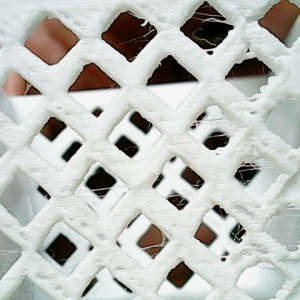3dpstringing: (194, 12, 233, 52), (230, 151, 274, 180), (77, 182, 130, 206), (164, 179, 205, 210), (189, 113, 232, 142), (125, 233, 171, 260), (221, 220, 248, 250), (247, 260, 286, 278), (2, 243, 27, 271), (135, 15, 159, 44), (19, 83, 37, 119), (276, 202, 299, 219), (236, 49, 257, 64)
3dpunderextrusion: (232, 201, 281, 257), (267, 161, 300, 209), (69, 216, 111, 246), (112, 263, 150, 295), (34, 268, 71, 297), (46, 98, 77, 127), (62, 10, 89, 41), (4, 221, 37, 246)
